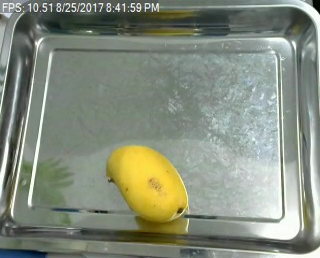Mango: (104, 140, 192, 224)
